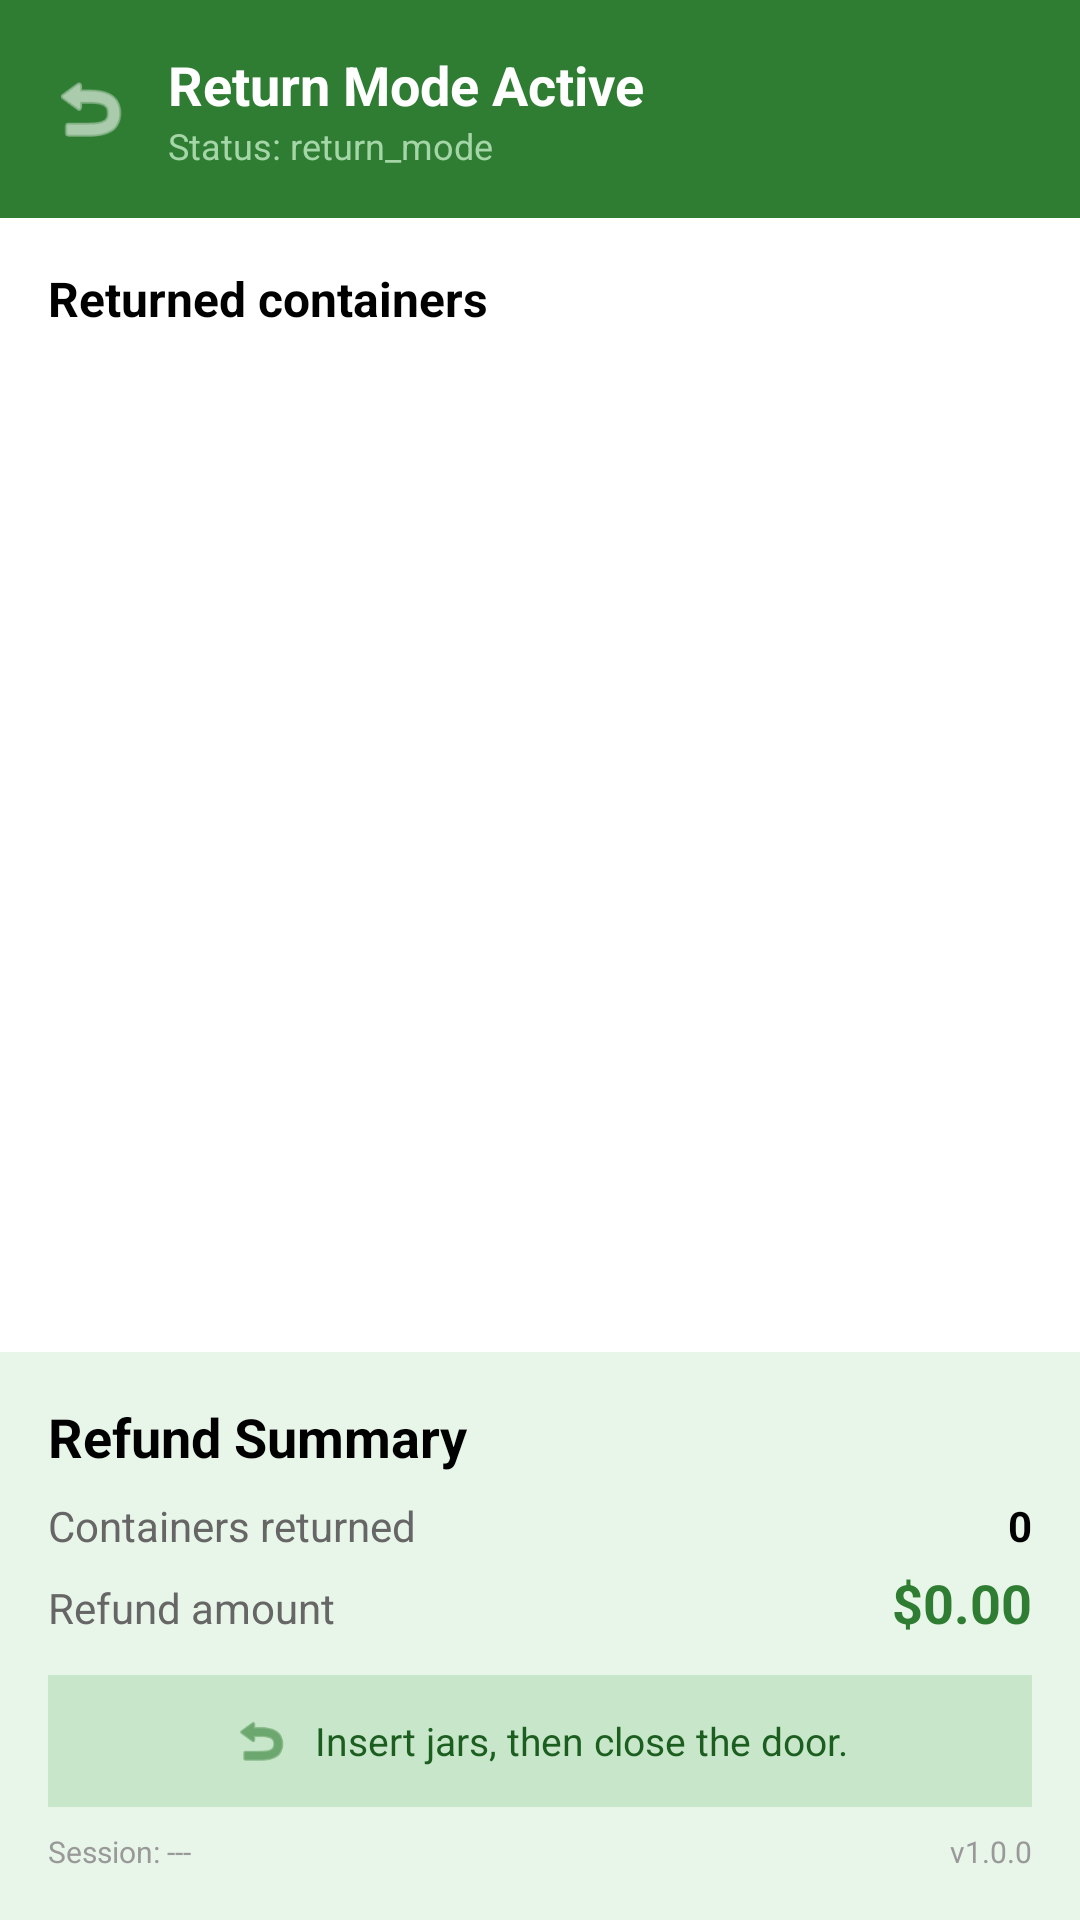

Locate icon controls on the screen. Image size 1080×1920, boxes as bbox=[x1, y1, x2, y2].
revert: bbox=[61, 82, 121, 137], bbox=[240, 1722, 283, 1761]
